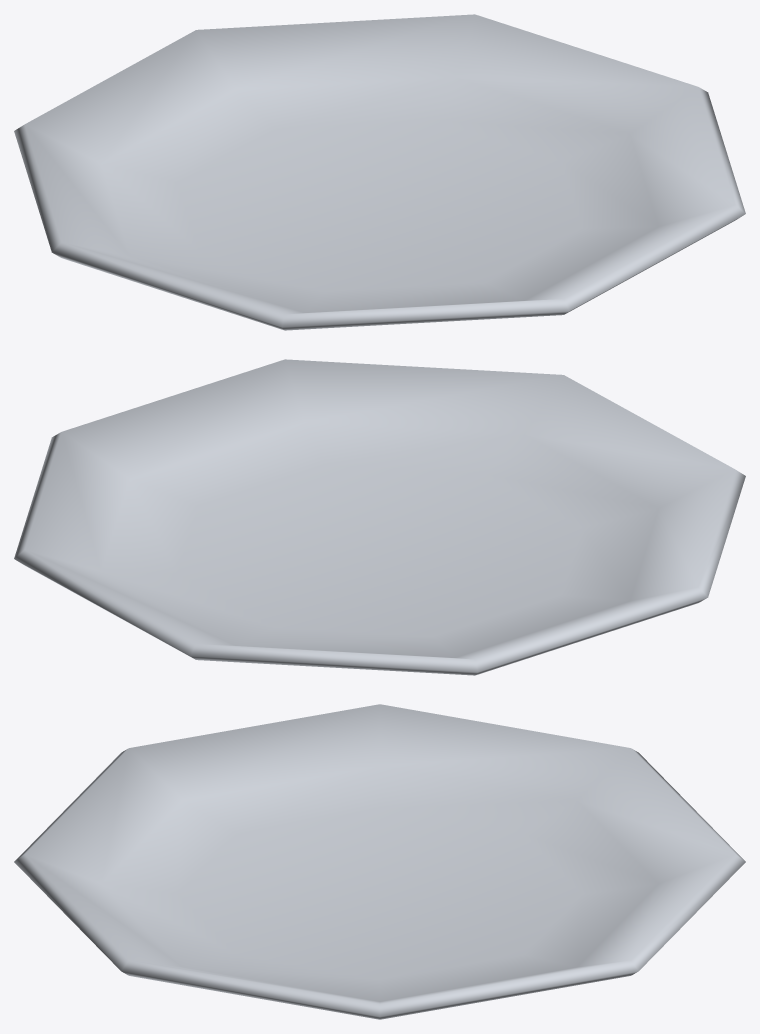
File: dish_watch_glass.glb
3 views of the same model, one above another, from view 1: azimuth 30°, elevation 25°; view 2: azimuth 150°, elevation 25°; view 3: azimuth 270°, elevation 25° (orthographic). The views are drawn at different scales.
Parts seen in each view (by area): view 1: dish_watch_glass; view 2: dish_watch_glass; view 3: dish_watch_glass.
Boxes of the visible parts, <box> form: dish_watch_glass: <box>14,14,745,330</box>; dish_watch_glass: <box>14,359,745,675</box>; dish_watch_glass: <box>14,704,745,1019</box>.
Size of the model in its own units: 13.63 by 1.14 by 13.63.
1 material, 1 textured.
